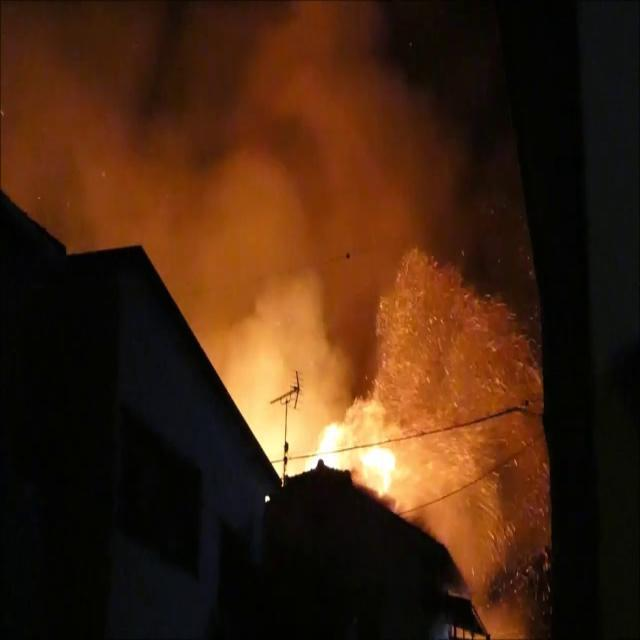Fire: (299, 397, 368, 477)
Smoke: (6, 0, 514, 528)
